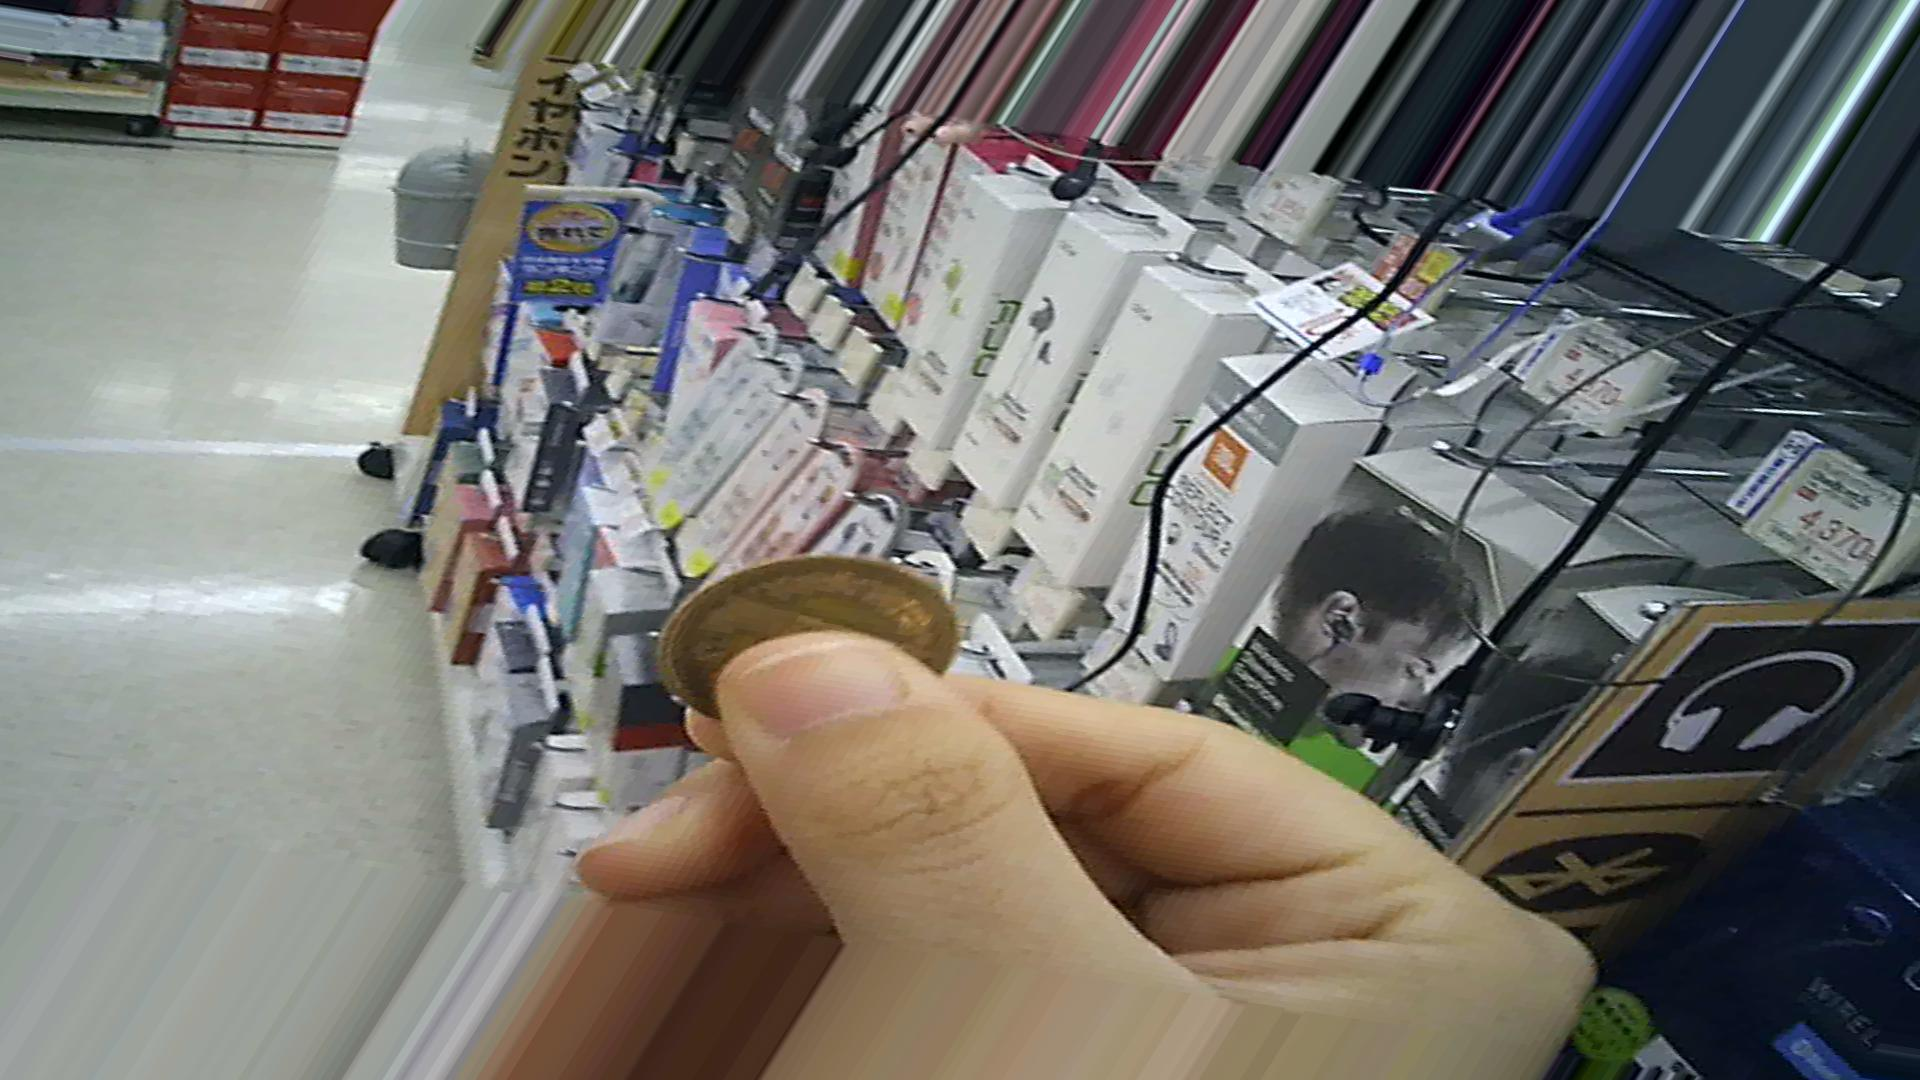10 Yen: (650, 539, 938, 746)
